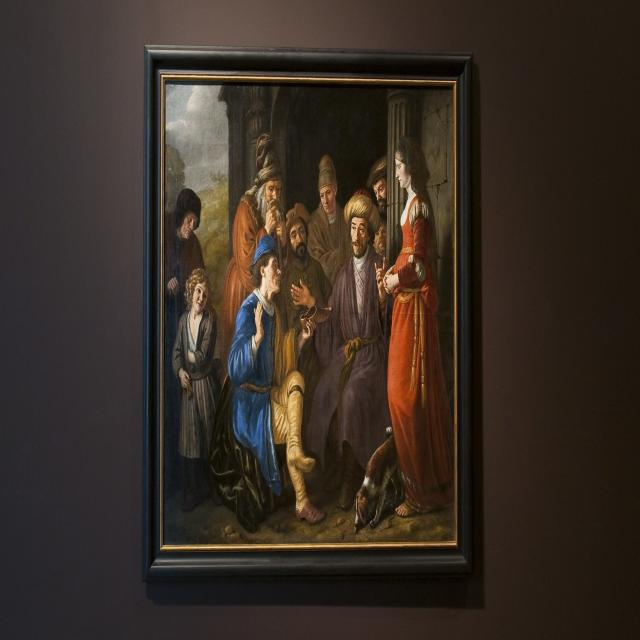Tablo: (162, 77, 456, 548)
